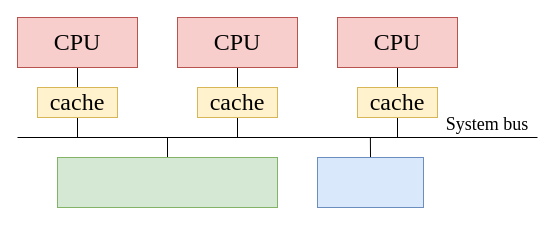
Some shapes in this 556 by 225 pixel diagram are drawn without their labels. Here are the shapes that lost their labels. From the top down, the centre of each, then its label:
(x=167, y=182): Memory
(x=370, y=182): I/O
